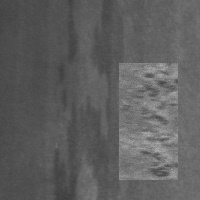inclusion: (47, 94, 118, 199), (90, 1, 128, 117), (50, 2, 80, 90)
rolled-in_scale: (119, 63, 178, 180)
